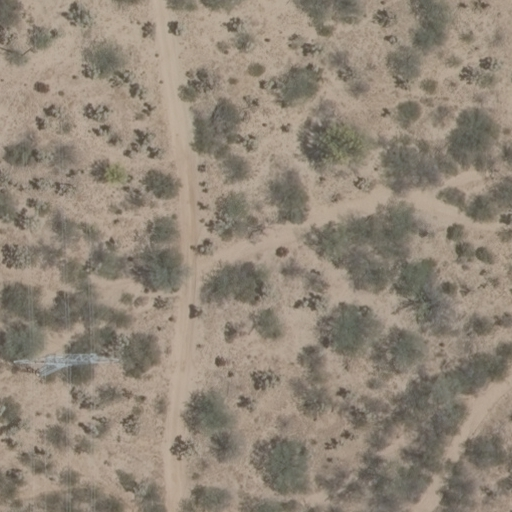TT: (8, 347, 129, 386)
